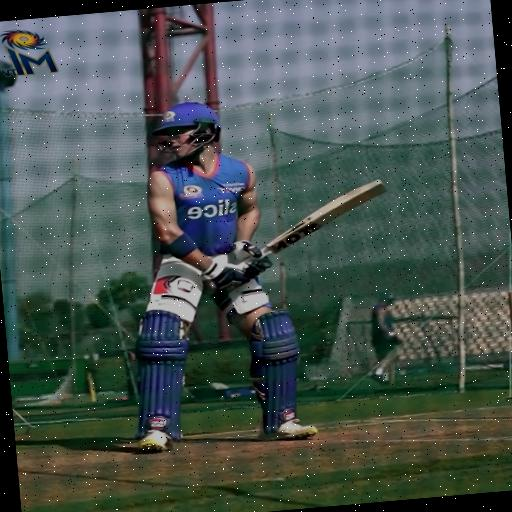Cricket bat: (263, 180, 386, 256)
